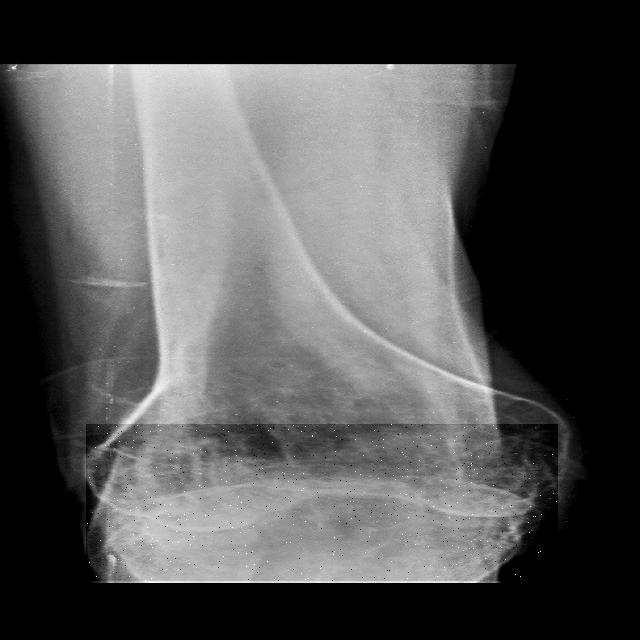normal: (86, 424, 558, 581)
